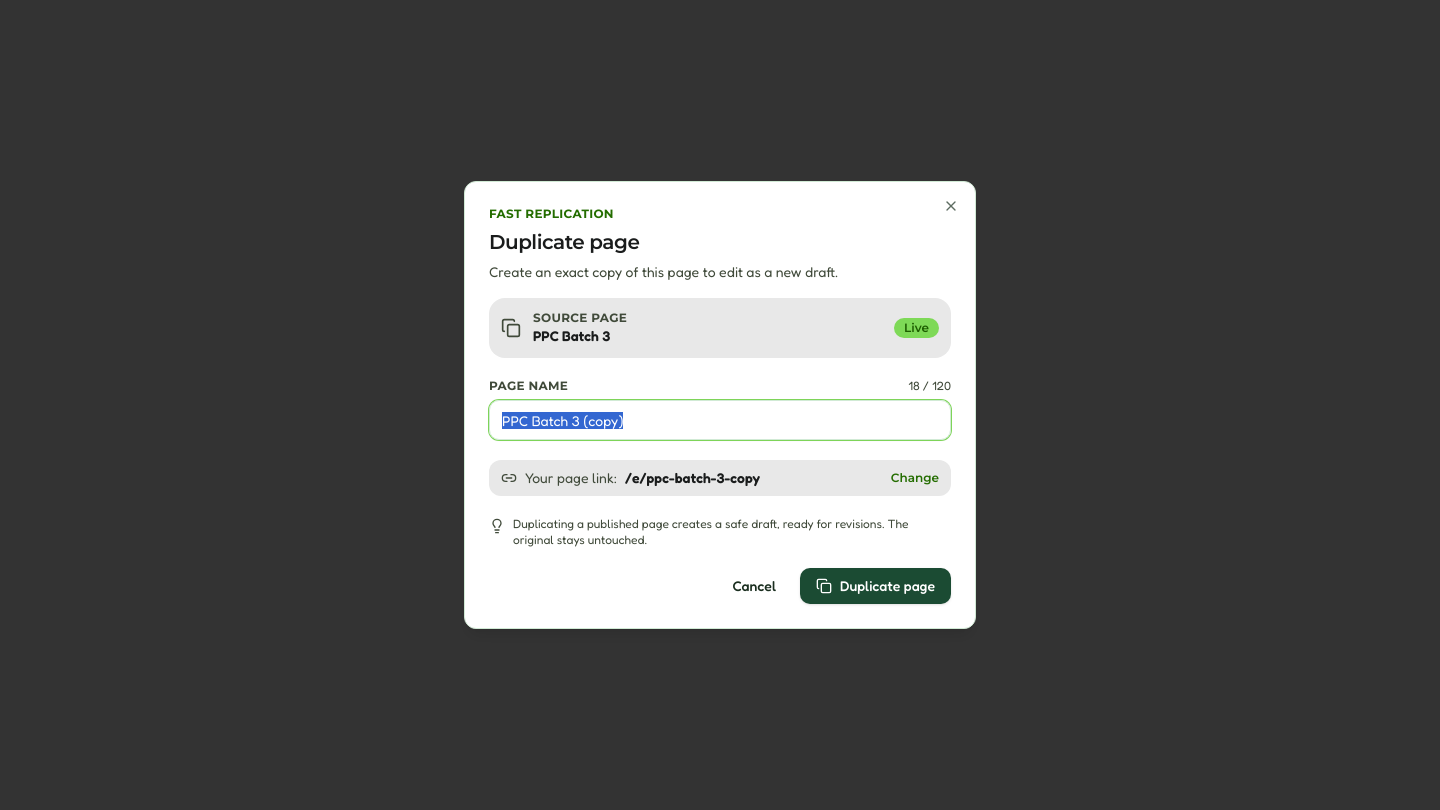
Scenario: DuplicatePageDialog › clears the server error when the link is edited
Step 1. Click the button "Duplicate page" → (876,586), box left=800, top=568, right=951, bottom=604
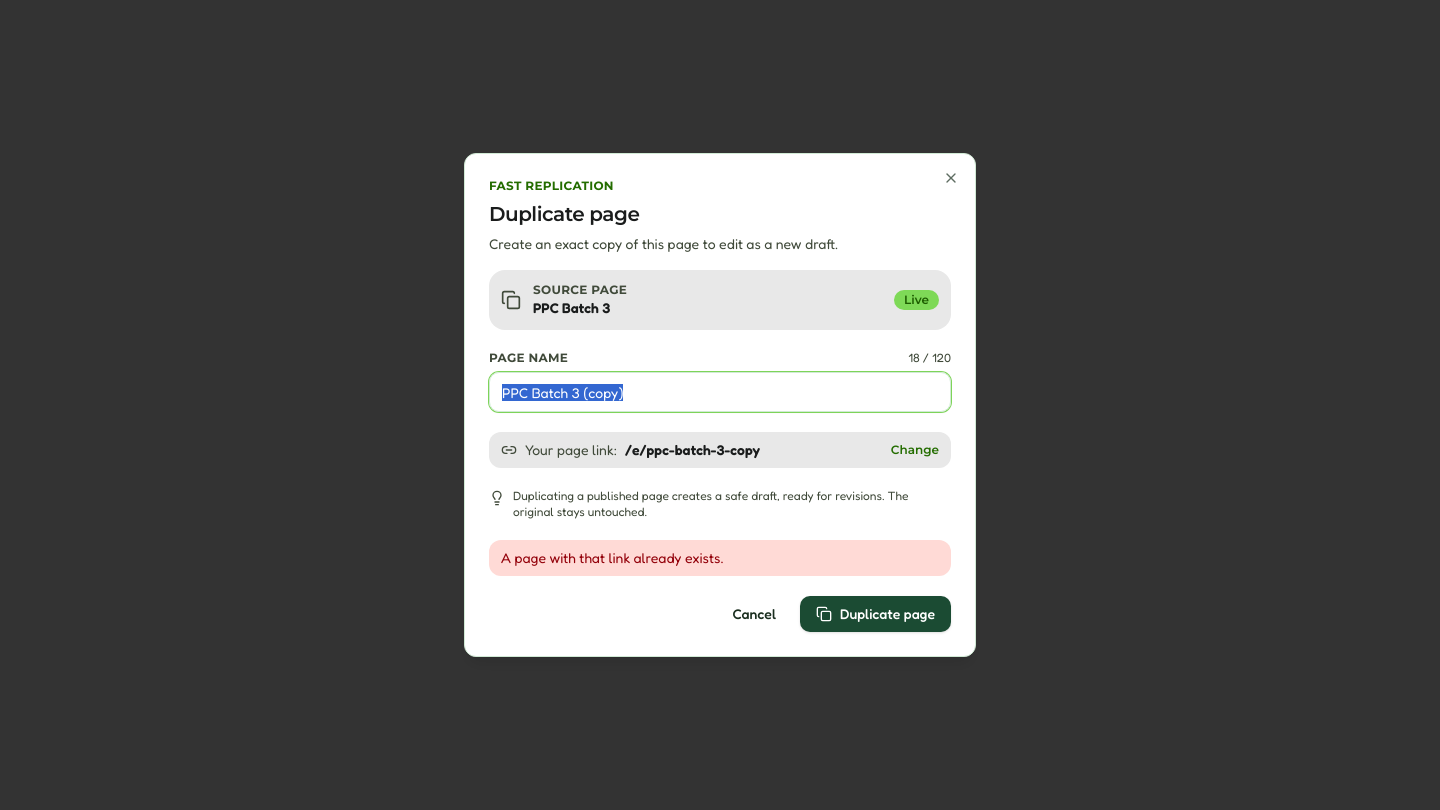
expect the text "A page with that link already exists." is shown: met, box left=489, top=540, right=951, bottom=576
Step 2. Click the button "Change" → (915,450), box left=891, top=442, right=939, bottom=458
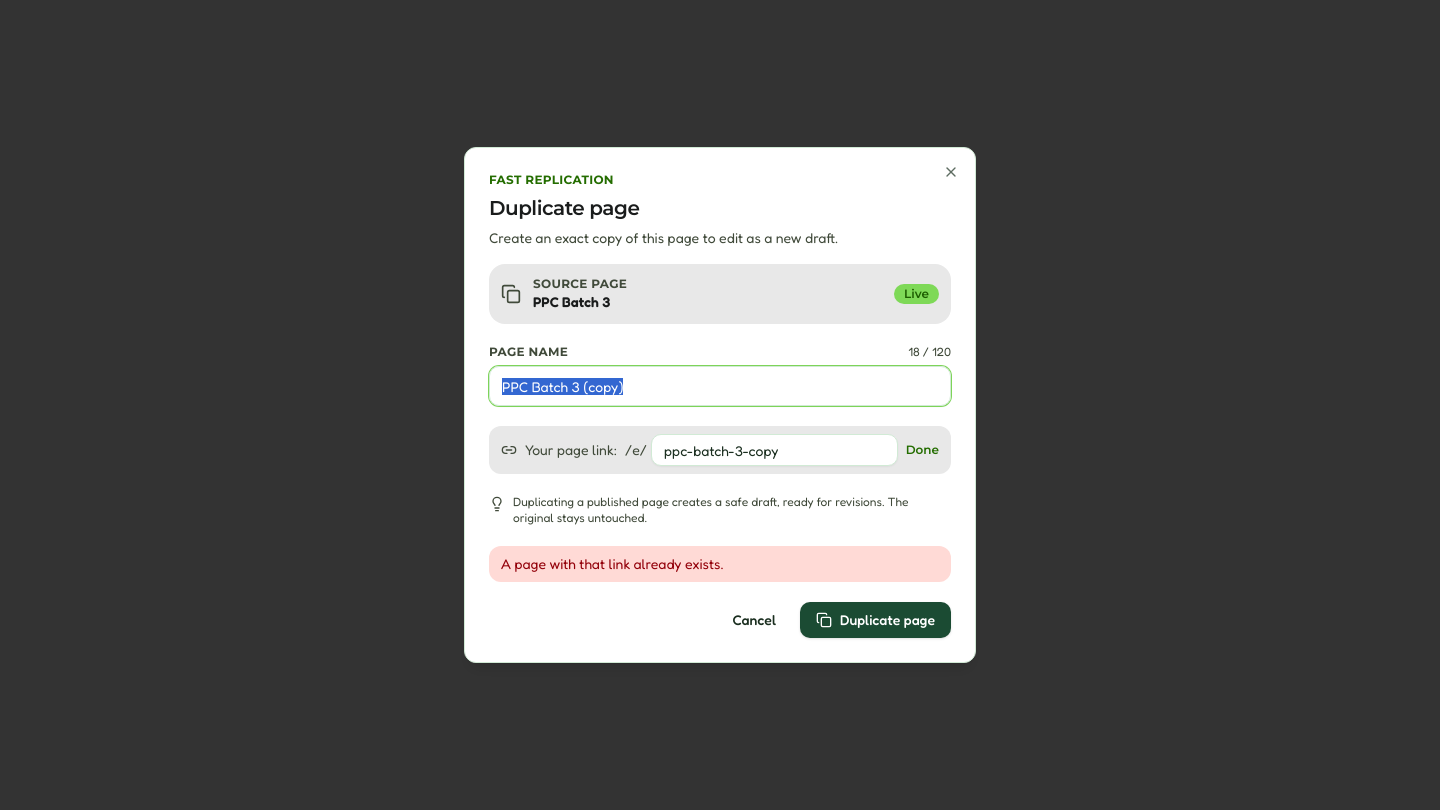
Step 3. Replace the text in the field named "link ending" with "ppc-b3-copy-2" → (774,450), box left=651, top=434, right=898, bottom=466
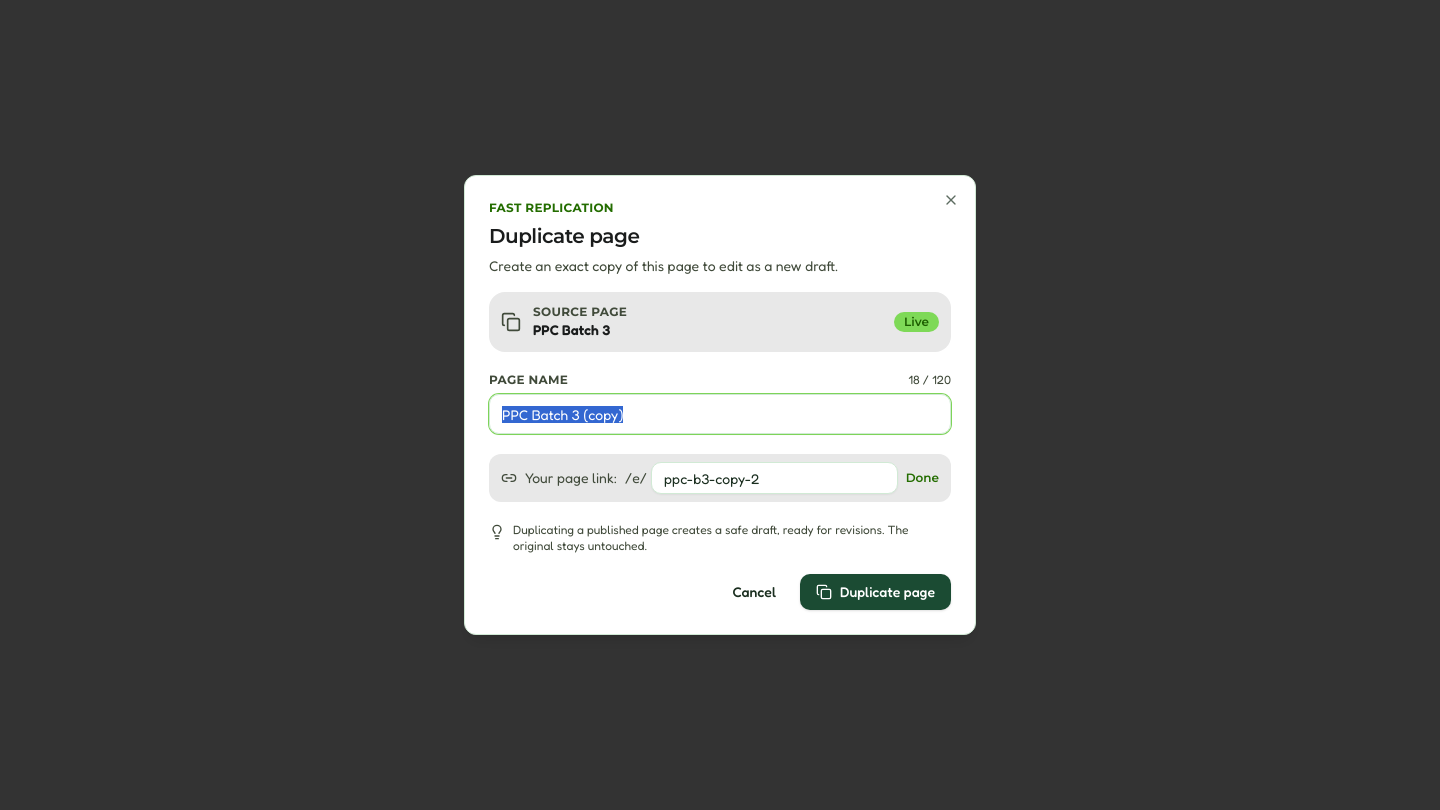
expect the text "already exists" is gone: met
